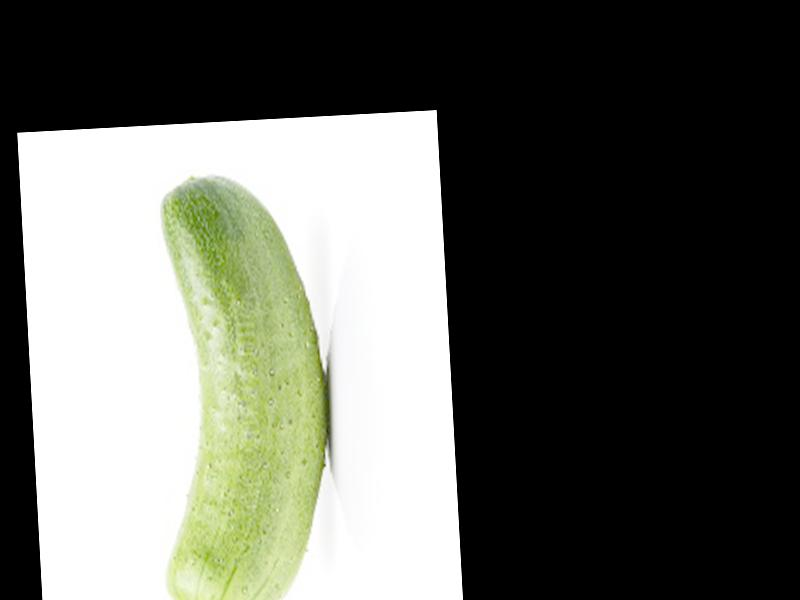Cucumber: (142, 168, 341, 600)
